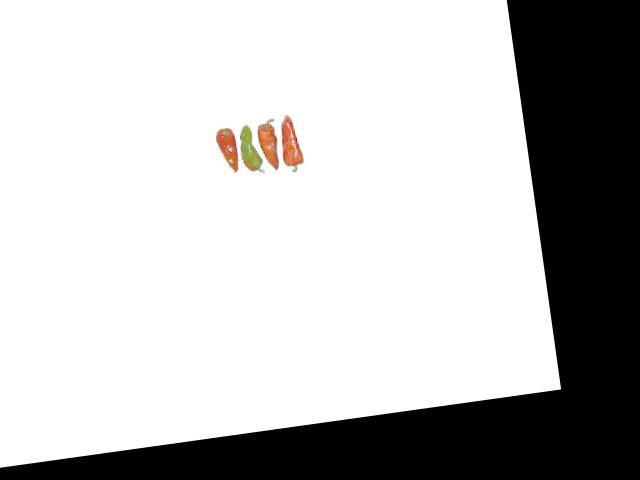bell_pepper: (209, 125, 242, 179)
